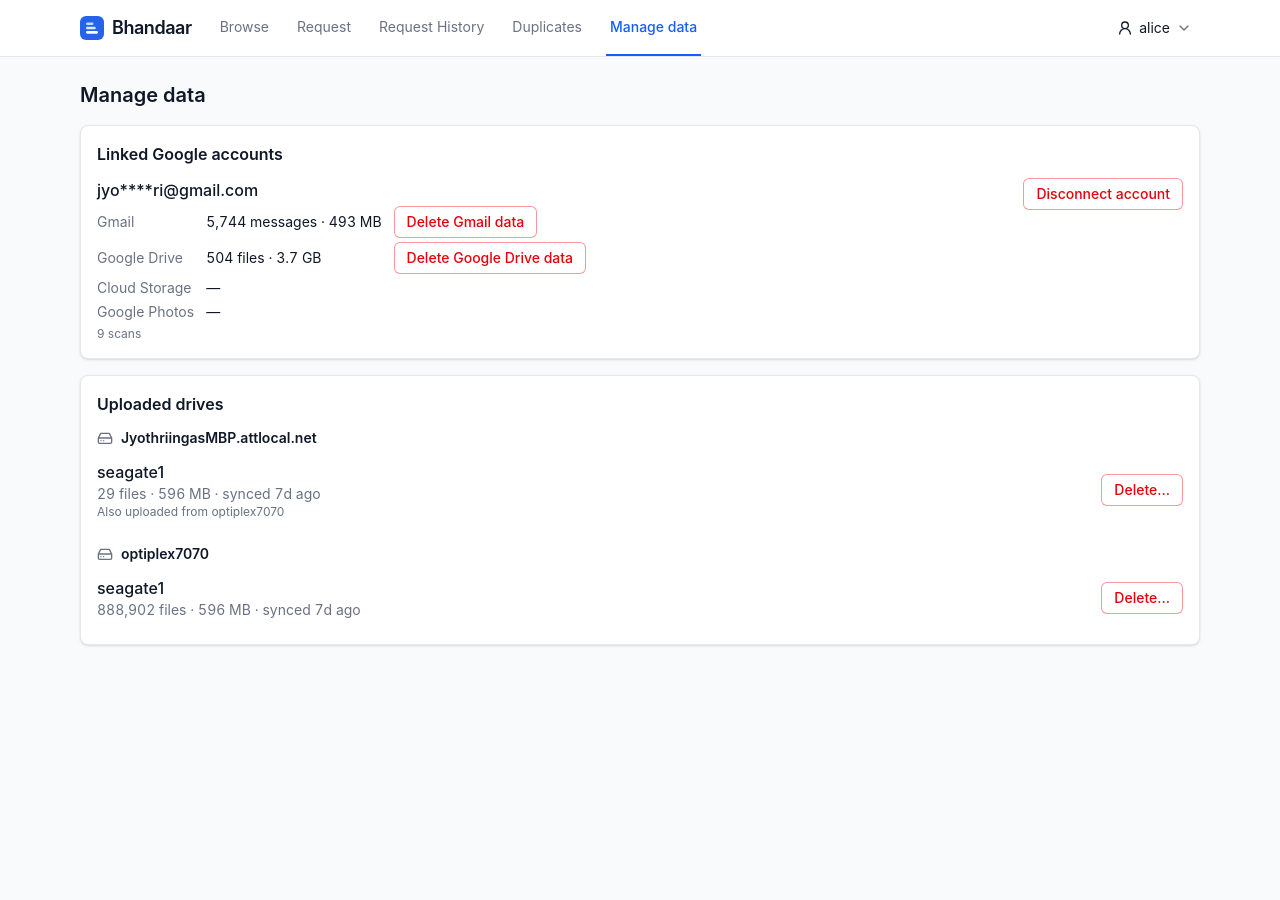
Test case: Manage data › deletes a drive from one box after confirming
Step 1. Click the button "Delete…" in the row of "29 files" → (1142, 490), box [1101,474,1183,506]
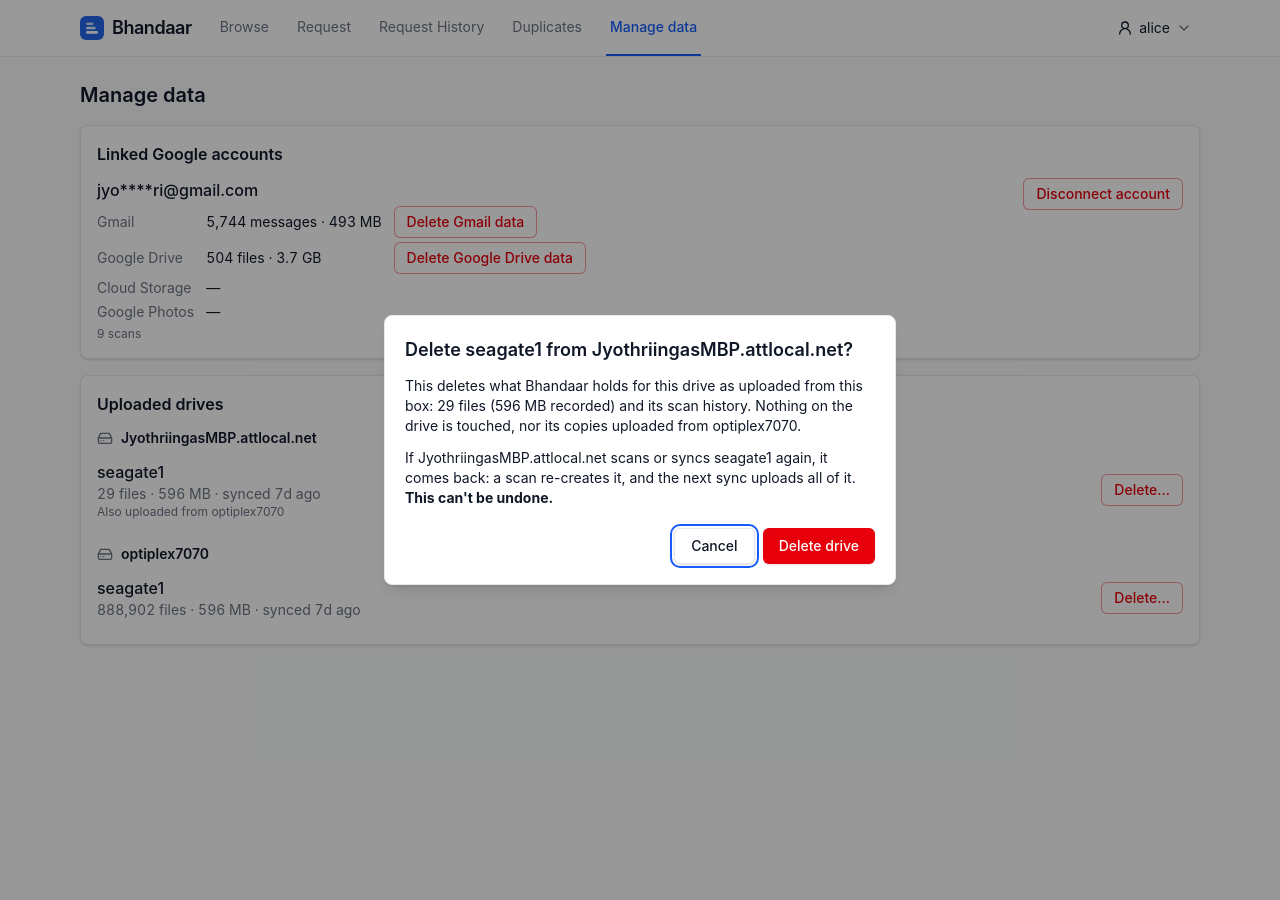
Now the dialog "Delete seagate1 from JyothriingasMBP.attlocal.net?" shows "nor its copies uploaded from optiplex7070", box [511,417,797,434]
Now the dialog "Delete seagate1 from JyothriingasMBP.attlocal.net?" shows "the next sync uploads all of it", box [405,449,856,486]
Step 2. Click the button "Delete drive" → (819, 546), box [763,528,875,564]
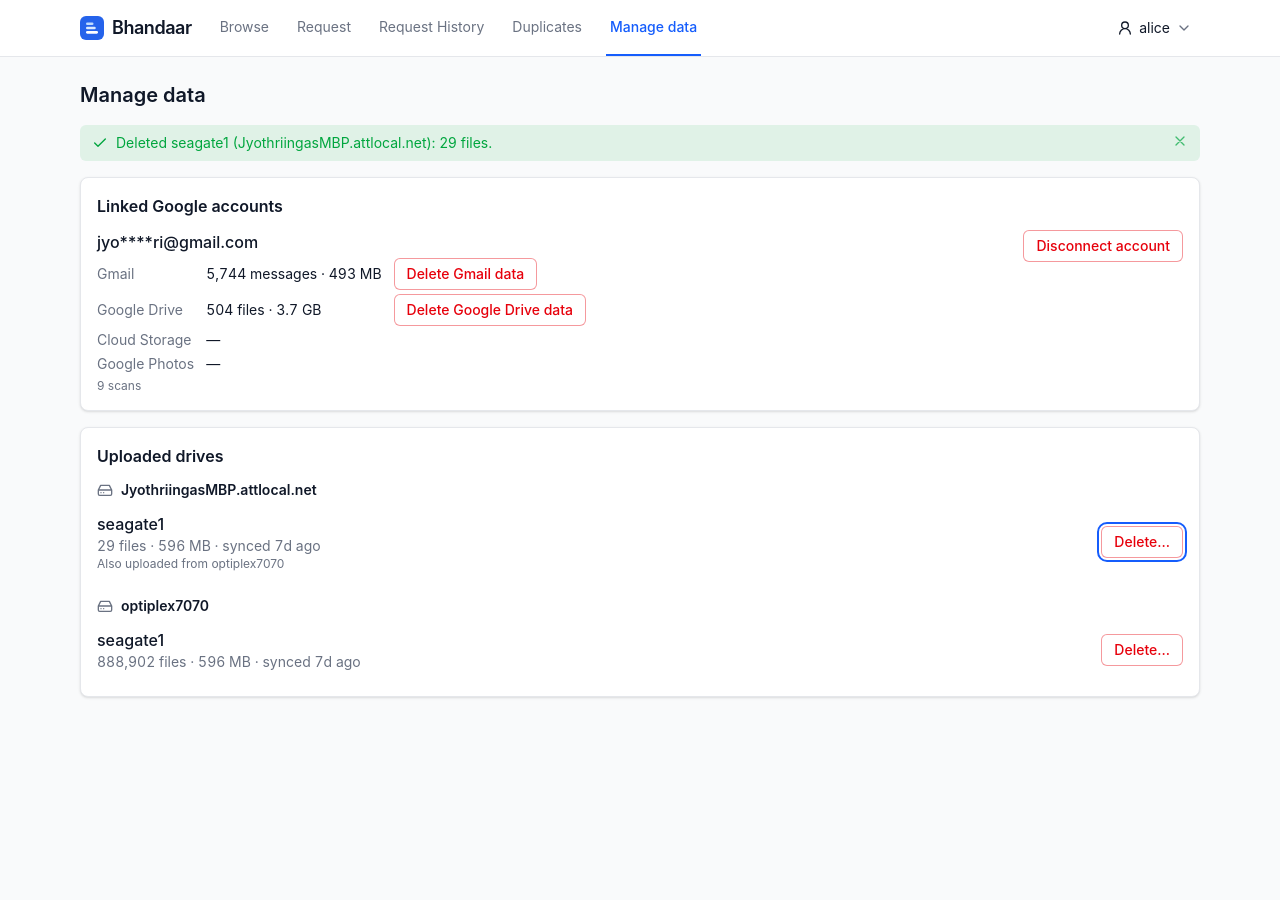
Now the text "Deleted seagate1 (JyothriingasMBP.attlocal.net): 29 files." is shown, box [116,134,492,151]
Now the dialog is gone
